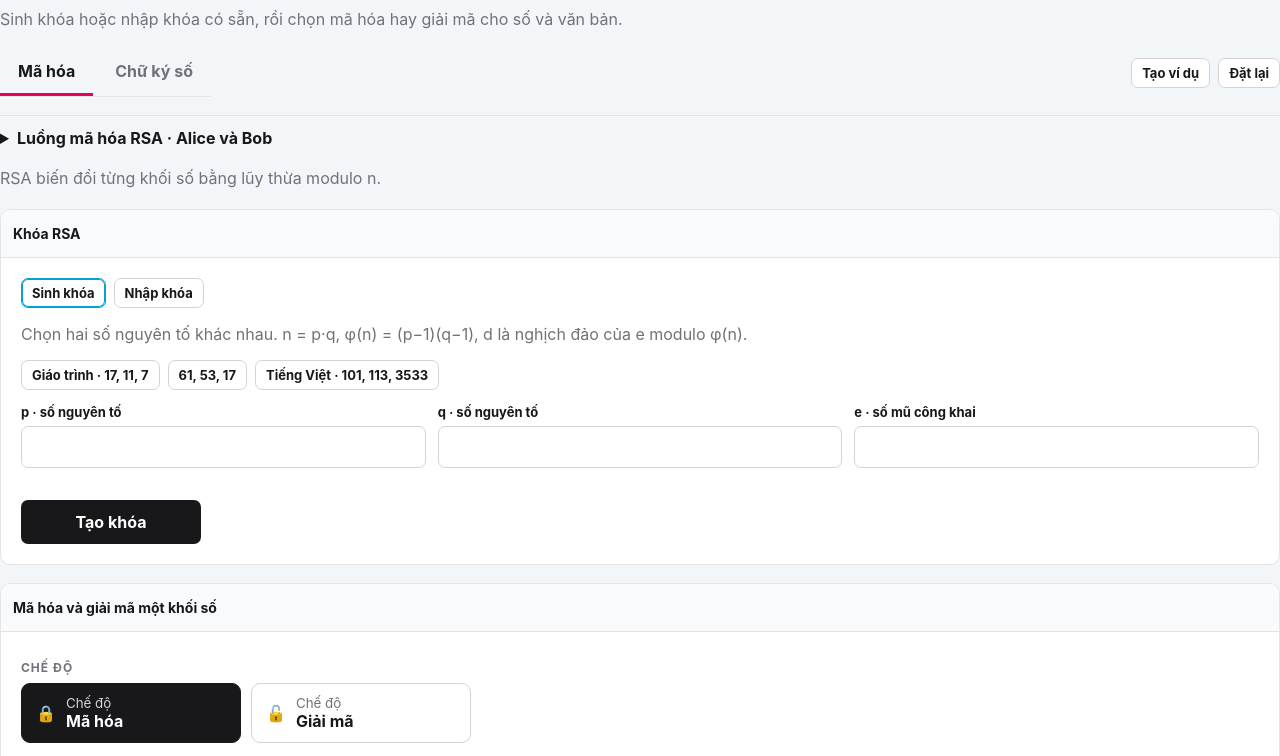
Test: RSA independent operations › shows shared input/output status bars for both operations
The image size is (1280, 756).
Click the button "Tạo ví dụ": (1171, 73) top-left (1131, 58), bottom-right (1210, 88)
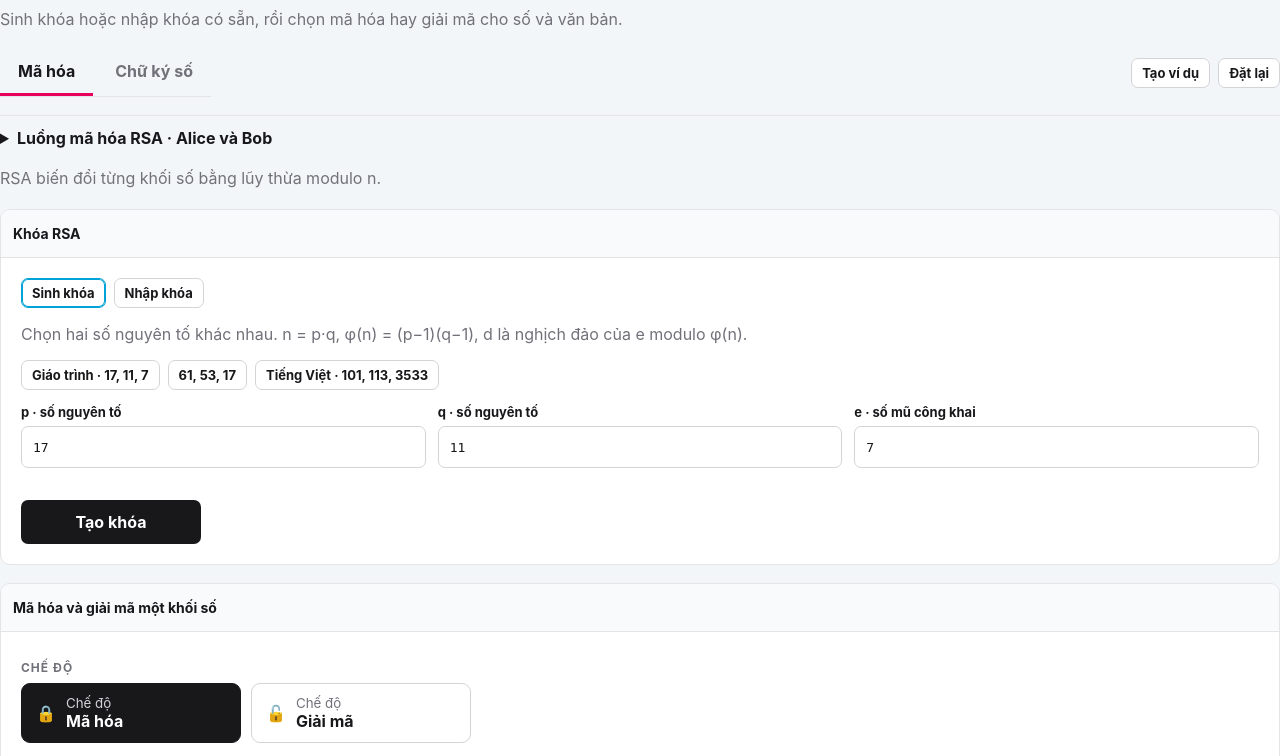
Click the button "Nhập khóa": (159, 293) top-left (114, 278), bottom-right (204, 308)
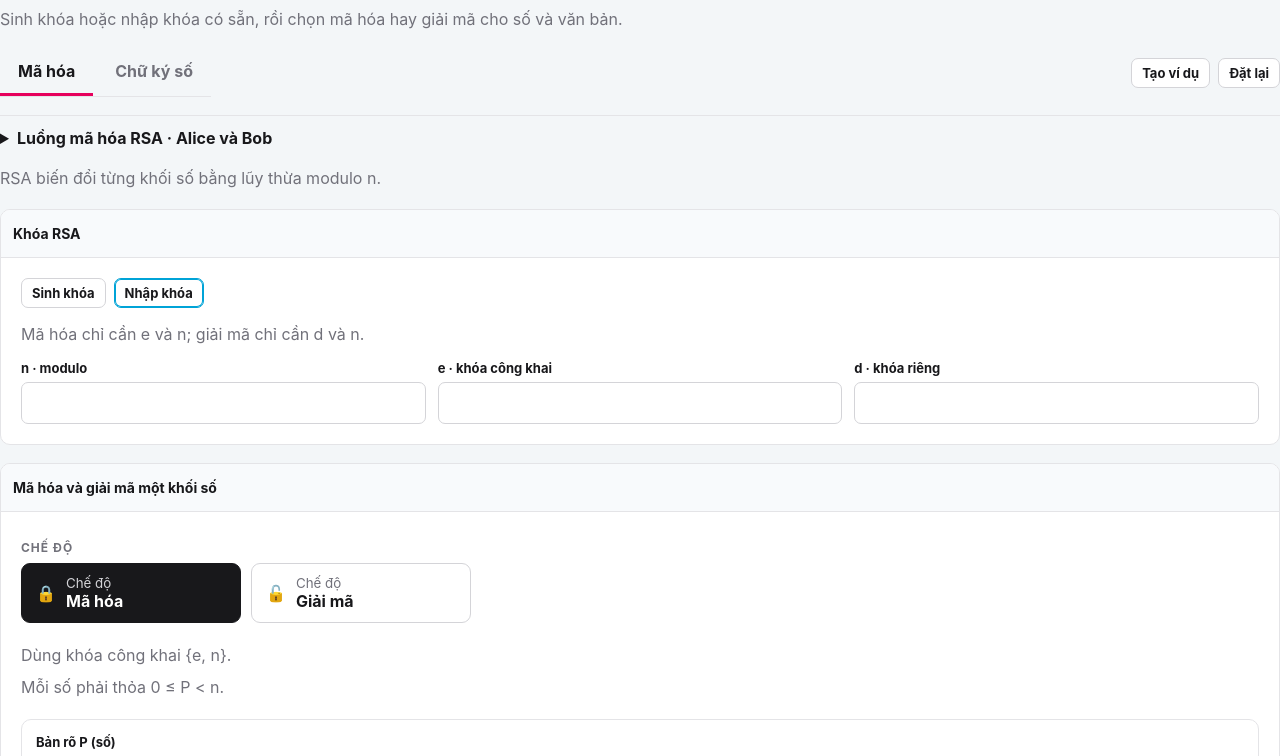
In the field labelled "n · modulo": (223, 403) top-left (21, 382), bottom-right (426, 424), type "187"
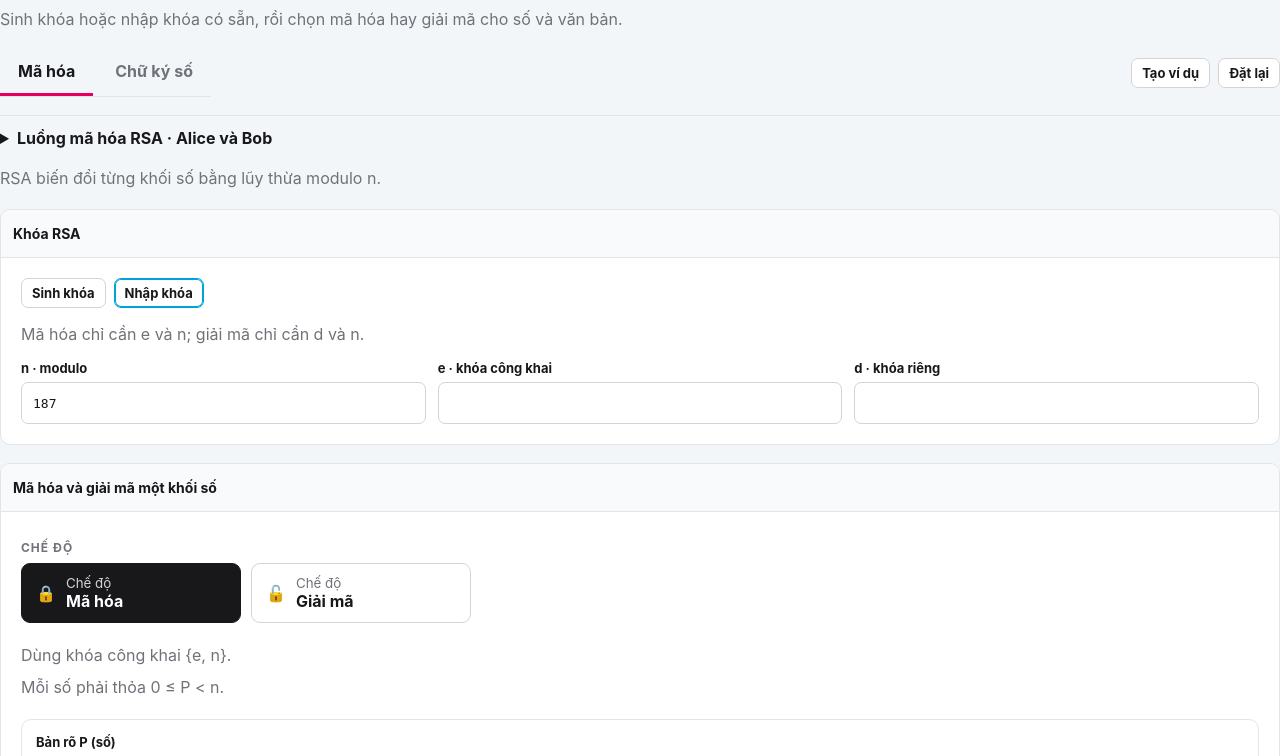
In the field labelled "e · khóa công khai": (640, 403) top-left (438, 382), bottom-right (842, 424), type "7"
(page scrolled)
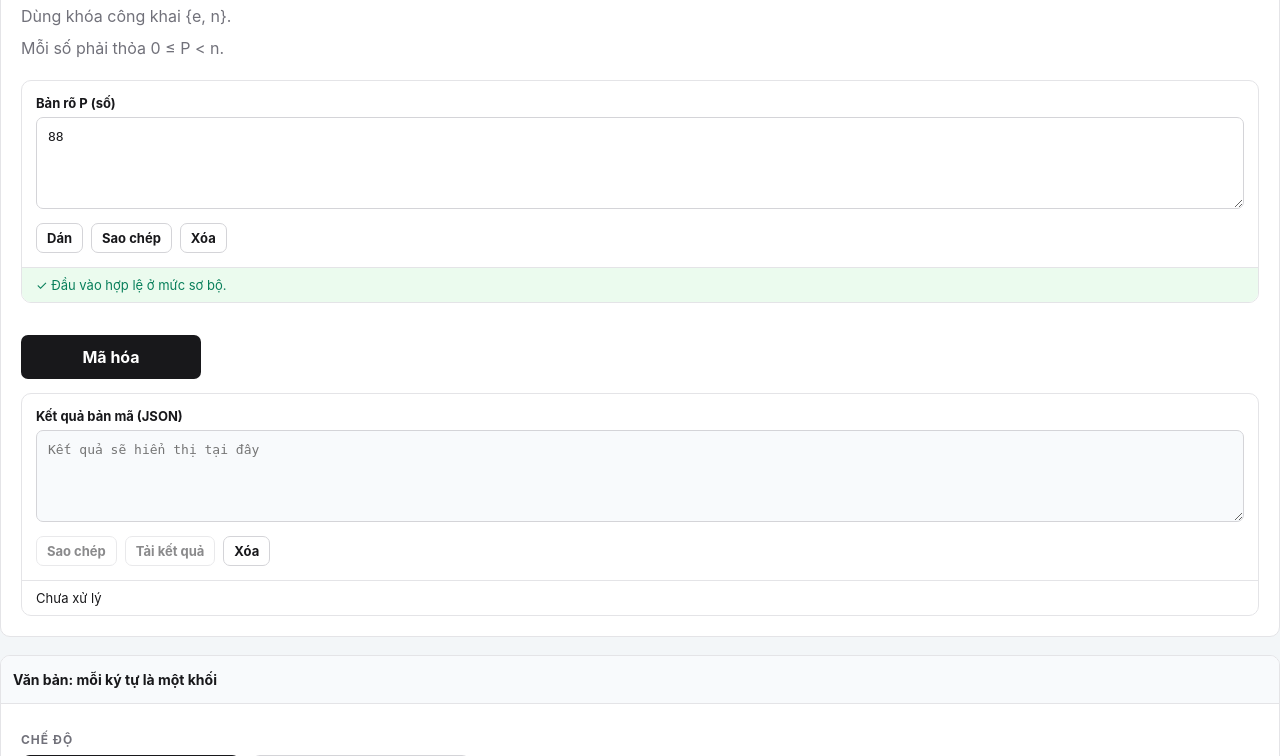
Click the button "Mã hóa": (111, 357) top-left (21, 335), bottom-right (201, 379)
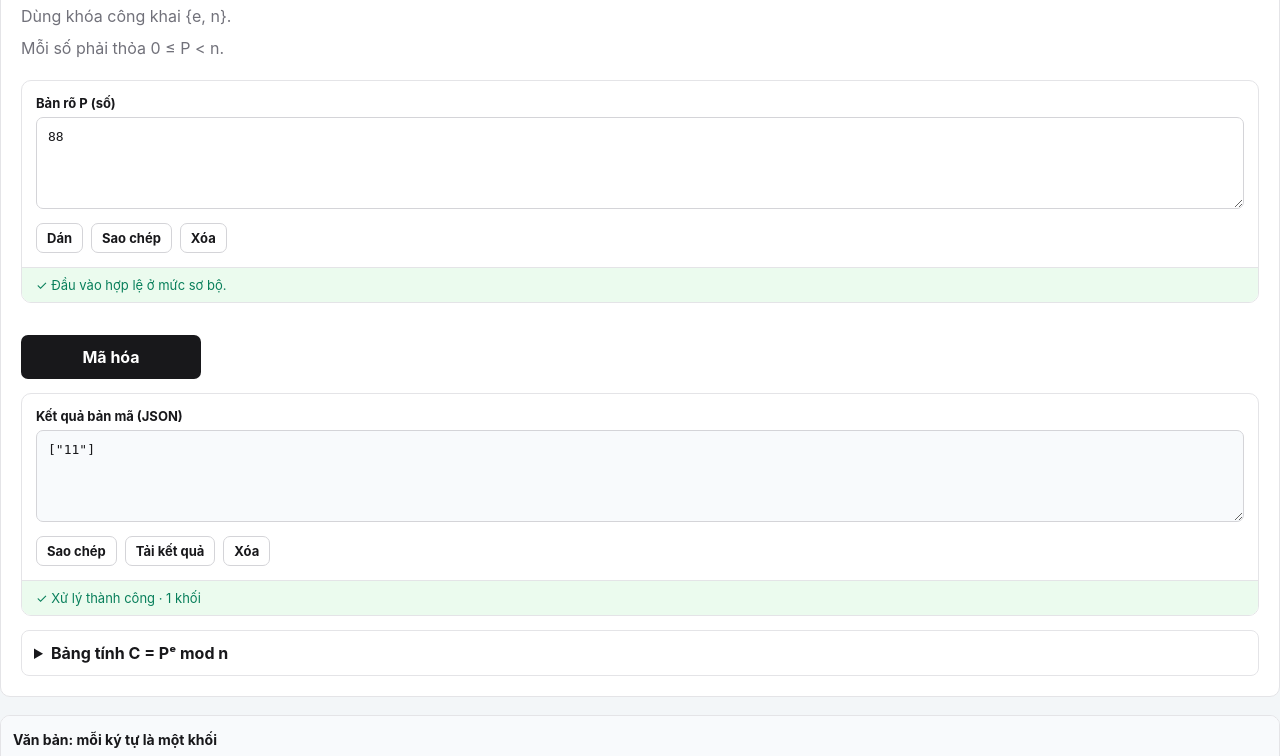
Replace the text in the text box labelled "Bản rõ P (số)" with "abc": (640, 163) top-left (36, 117), bottom-right (1244, 209)
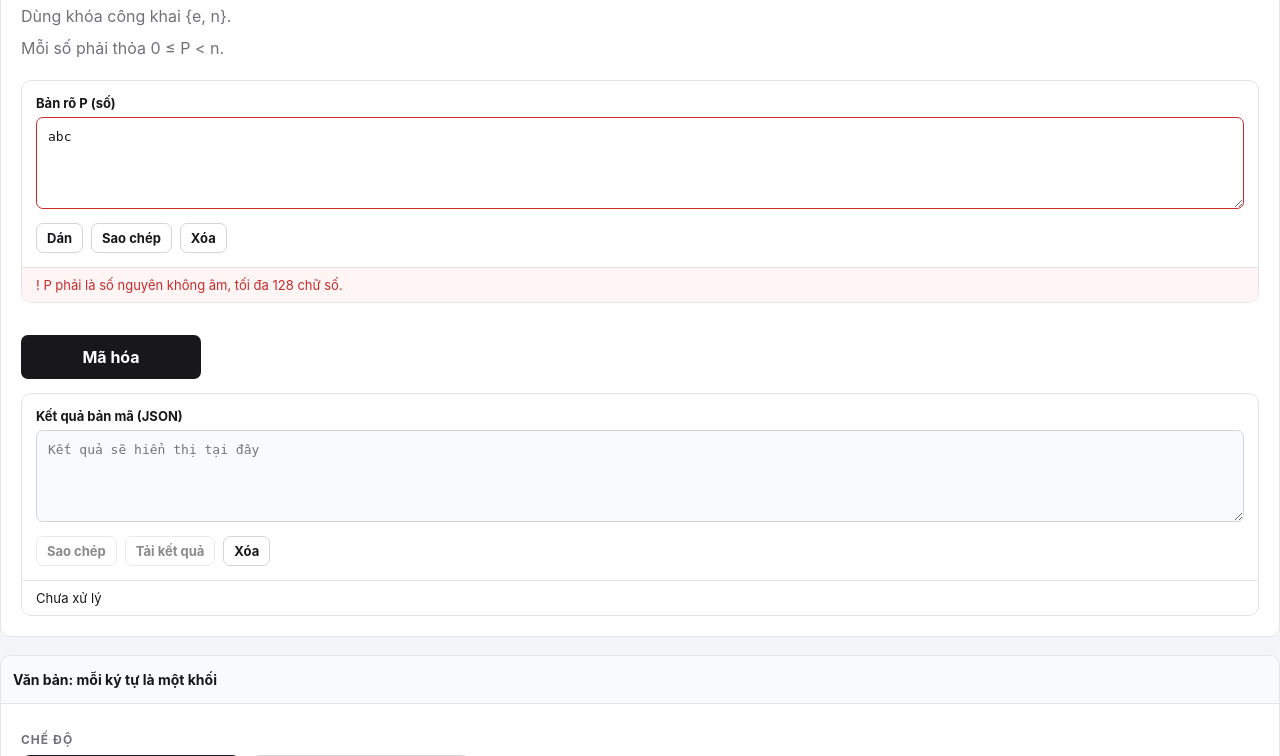
Check: the text "Chưa xử lý" is shown, box top-left (22, 580), bottom-right (1258, 615)
